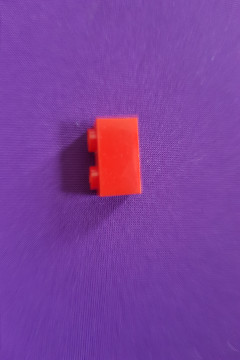1x2 red: (86, 116, 145, 197)
